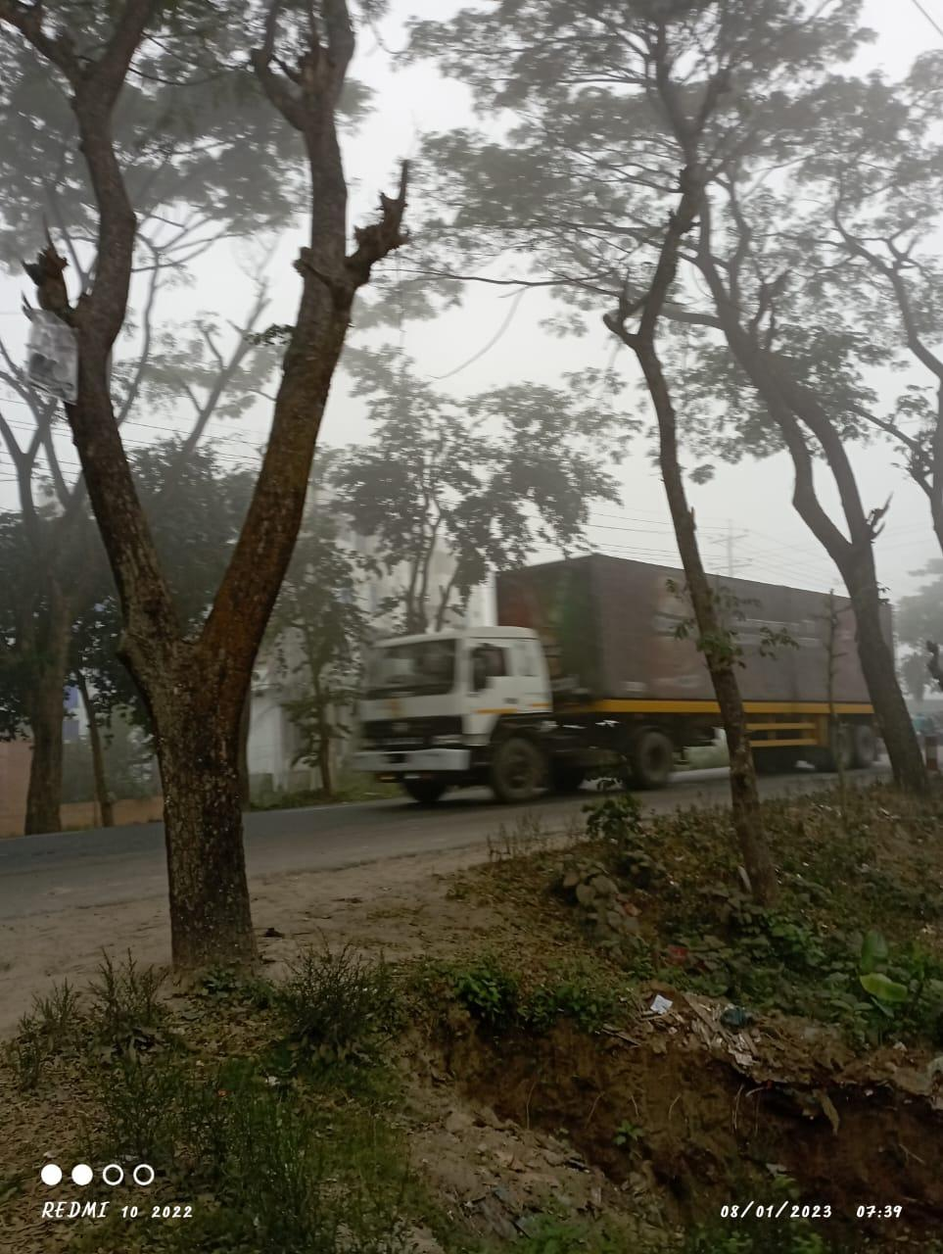Truck: (347, 542, 901, 796)
